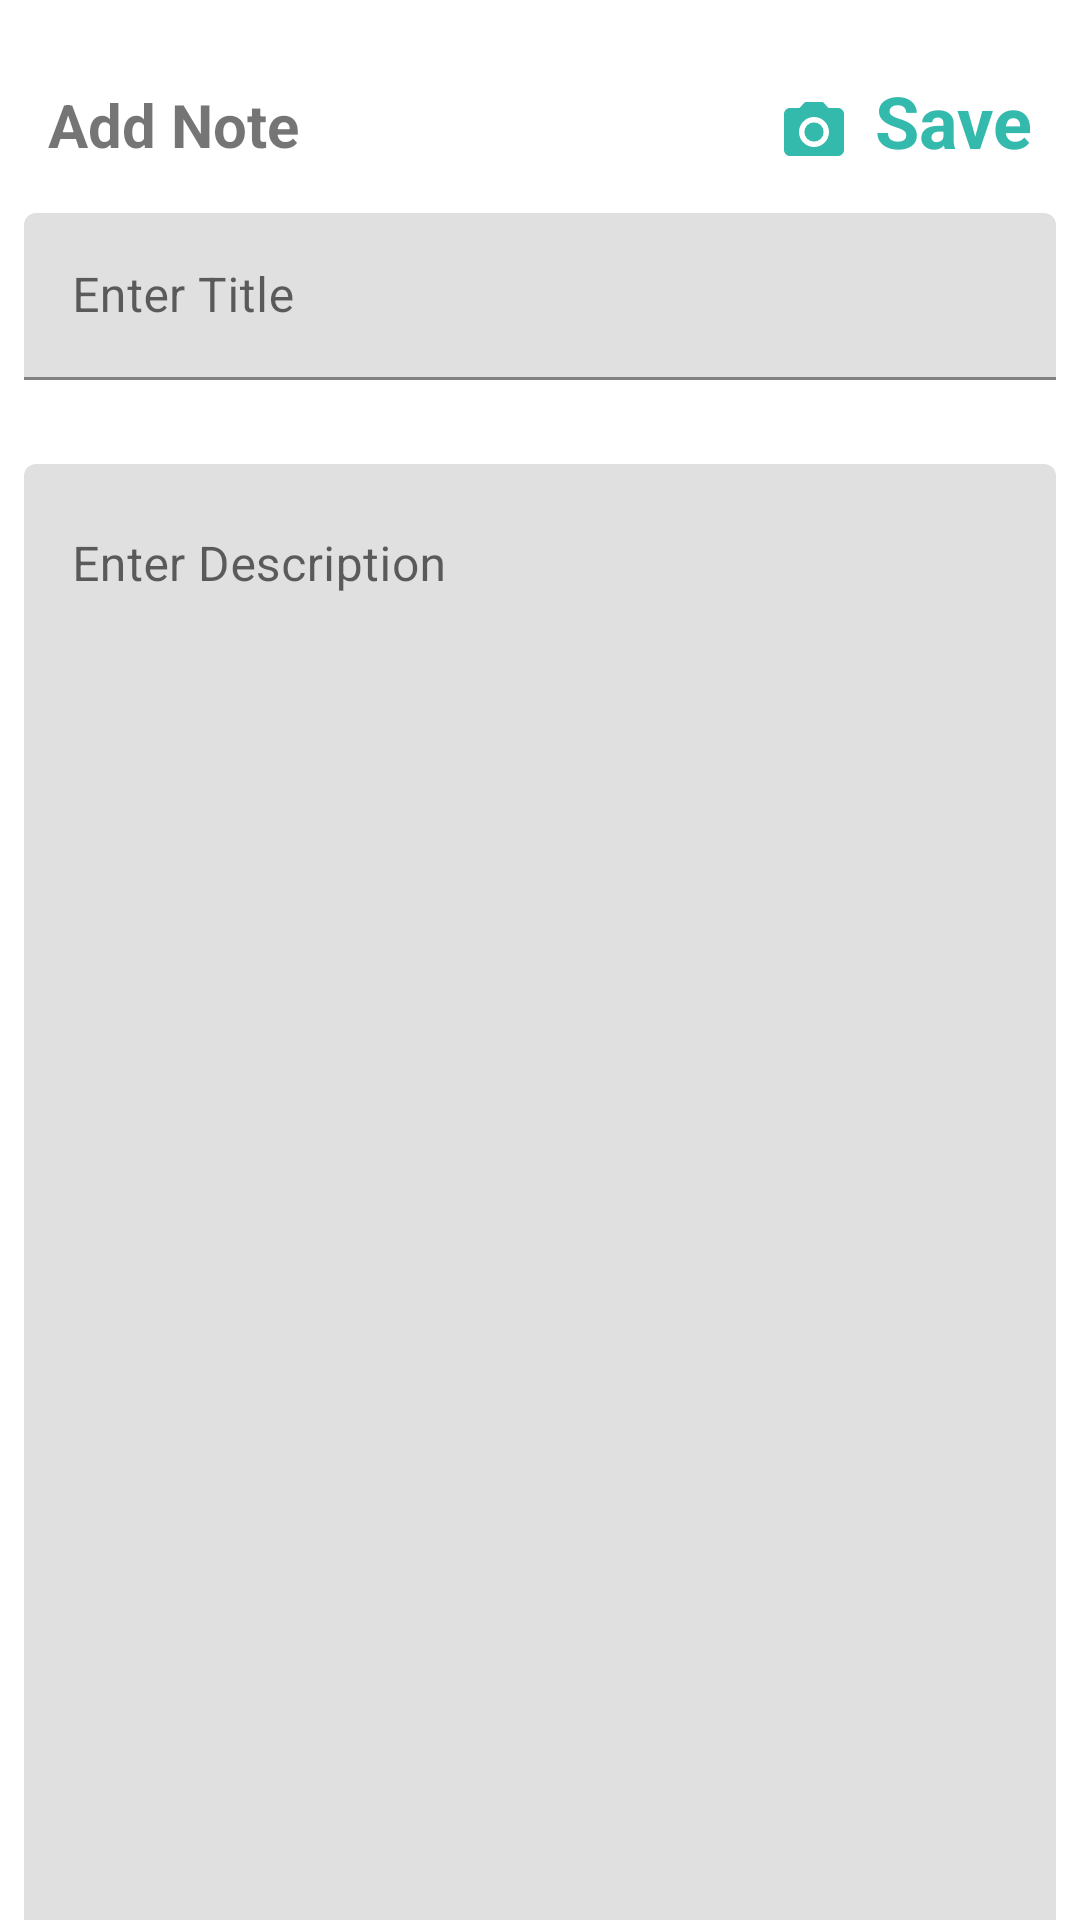

Named icons in this screenshot (1080w x 1920h) and their bounding boxes, box(x1, y1, x2, y2):
camera: box(784, 102, 844, 156)
